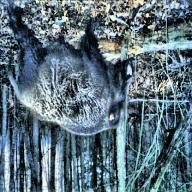boar: (8, 3, 138, 136)
